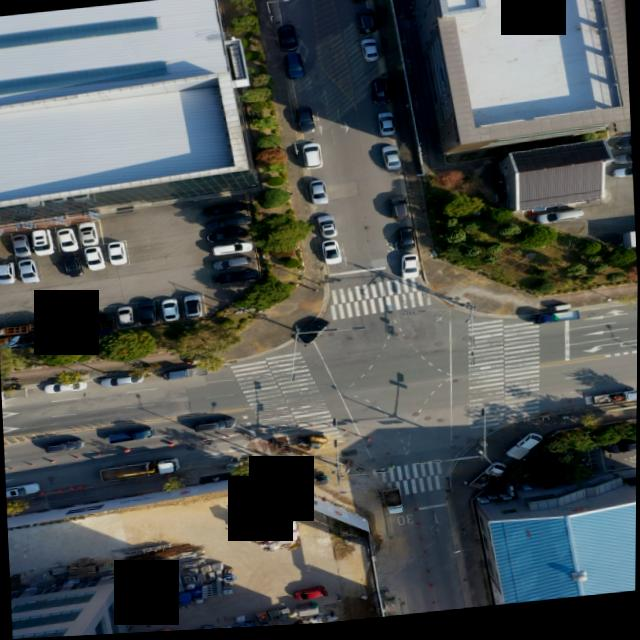car: (290, 320, 334, 346), (537, 214, 587, 233), (275, 24, 299, 56), (43, 439, 90, 455), (192, 420, 239, 436), (98, 374, 143, 390), (202, 204, 247, 220), (210, 243, 253, 259), (210, 217, 253, 233), (281, 55, 303, 85), (209, 259, 249, 274), (5, 484, 40, 501), (380, 148, 401, 176), (47, 382, 88, 396), (303, 146, 323, 174), (216, 273, 256, 287), (18, 258, 39, 284), (206, 231, 248, 244), (293, 590, 325, 607), (106, 242, 128, 266), (57, 229, 78, 254), (321, 244, 342, 269), (85, 247, 106, 272), (317, 217, 337, 243), (62, 254, 83, 278), (309, 183, 328, 209), (297, 111, 316, 137), (398, 232, 418, 256), (32, 228, 51, 253), (318, 240, 338, 263), (162, 300, 181, 324), (183, 297, 202, 321), (390, 199, 409, 223), (361, 41, 379, 66), (371, 82, 388, 108), (378, 116, 395, 142), (403, 258, 420, 284), (80, 222, 99, 244), (355, 17, 372, 41), (138, 303, 155, 326), (14, 236, 31, 258), (116, 307, 133, 326), (0, 261, 14, 284), (612, 174, 633, 185), (343, 0, 369, 8)
medium_truck: (98, 458, 181, 483)
small_truck: (506, 436, 547, 467), (469, 468, 510, 496), (591, 395, 638, 413), (103, 430, 152, 447), (380, 491, 407, 521), (532, 315, 580, 331), (159, 368, 206, 383)
